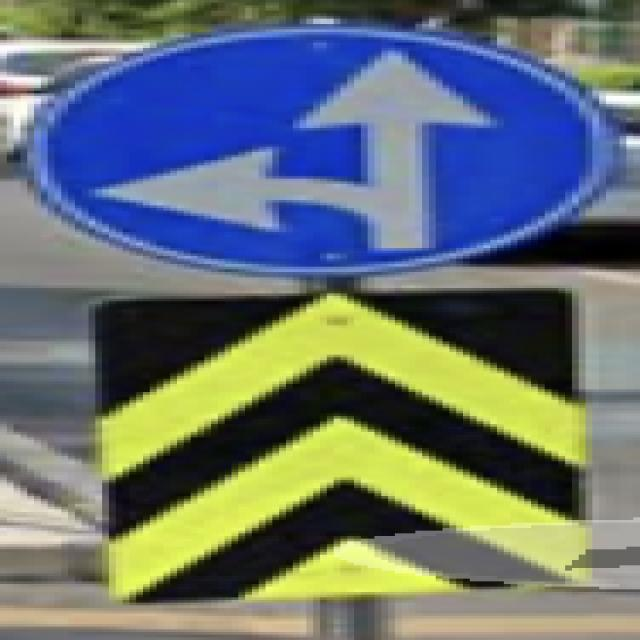Straight or Left: (25, 22, 624, 276)
